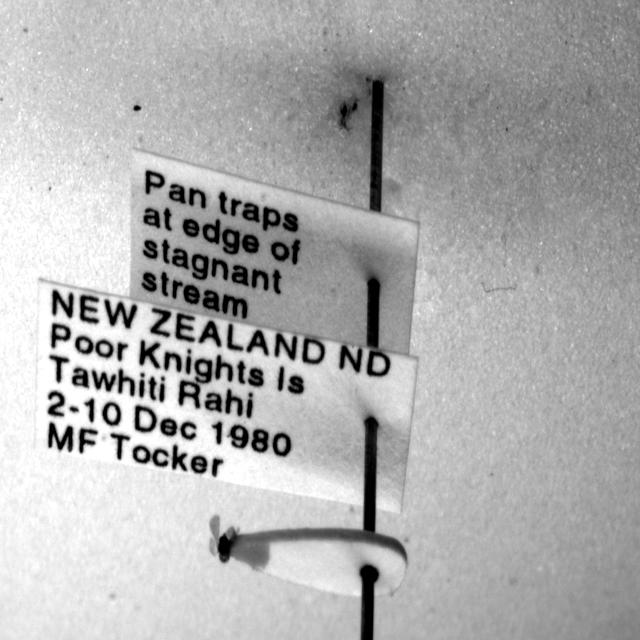typed_label: (35, 279, 418, 512), (130, 150, 419, 354)
